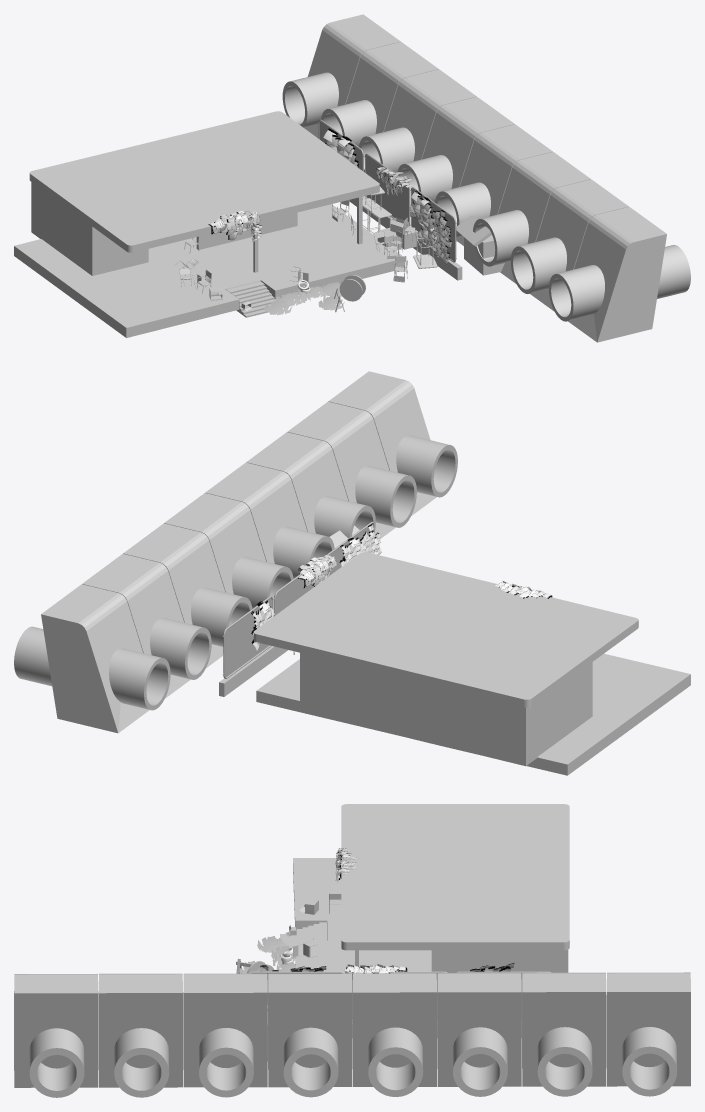
File: ArtRes.fbx
3 renders of one model, top to bottom at view 1: azimuth 30°, elevation 25°; view 2: azimuth 150°, elevation 25°; view 3: azimuth 270°, elevation 25°, orthographic. The views are drawn at different scales.
Parts seen in each view (by area): view 1: 柱体, 立方体.007, 立方体, 立方体.003, SM_metal_fence_01.002, 立方体.010, 立方体.011, 立方体.002, SM_Desk_01, 立方体.001, Ivy_3, 立方体.006 (+6 smaller); view 2: 柱体, 立方体.007, 立方体.003, 立方体, SM_metal_fence_01.002, 立方体.006, Ivy_3.001; view 3: 柱体, 立方体.007, 立方体, 立方体.003, SM_metal_fence_01.002, 立方体.001, Ivy_3.001, Ivy_3.
Boxes of the visible parts, left/top/right/bottom form: 柱体: left=282, top=14, right=690, bottom=342; 立方体.007: left=29, top=111, right=379, bottom=252; 立方体: left=14, top=204, right=405, bottom=337; 立方体.003: left=31, top=182, right=297, bottom=275; SM_metal_fence_01.002: left=318, top=119, right=456, bottom=262; 立方体.010: left=174, top=200, right=416, bottom=293; 立方体.011: left=456, top=215, right=504, bottom=275; 立方体.002: left=209, top=217, right=418, bottom=311; SM_Desk_01: left=362, top=186, right=437, bottom=268; 立方体.001: left=227, top=281, right=275, bottom=317; Ivy_3: left=208, top=210, right=260, bottom=240; 立方体.006: left=348, top=196, right=462, bottom=280; 柱体: left=14, top=371, right=457, bottom=733; 立方体.007: left=253, top=552, right=638, bottom=707; 立方体.003: left=300, top=653, right=592, bottom=766; 立方体: left=256, top=653, right=690, bottom=775; SM_metal_fence_01.002: left=222, top=522, right=375, bottom=678; 立方体.006: left=219, top=646, right=287, bottom=696; Ivy_3.001: left=298, top=554, right=337, bottom=587; 柱体: left=14, top=972, right=690, bottom=1097; 立方体.007: left=341, top=804, right=569, bottom=950; 立方体: left=293, top=858, right=431, bottom=973; 立方体.003: left=431, top=950, right=568, bottom=972; SM_metal_fence_01.002: left=248, top=971, right=550, bottom=1022; 立方体.001: left=280, top=922, right=326, bottom=947; Ivy_3.001: left=344, top=964, right=407, bottom=973; Ivy_3: left=335, top=848, right=358, bottom=882.
Bounding box in the file's own units: 3687 × 785 × 4299.
